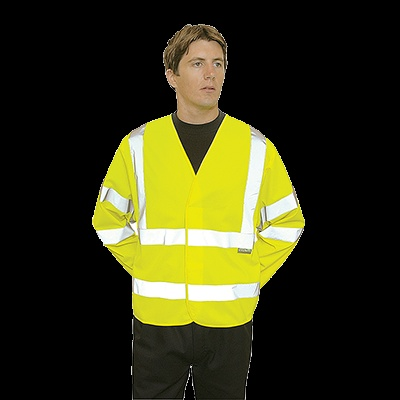person with partial safety: (122, 26, 260, 394)
safety vest: (115, 107, 272, 328)
